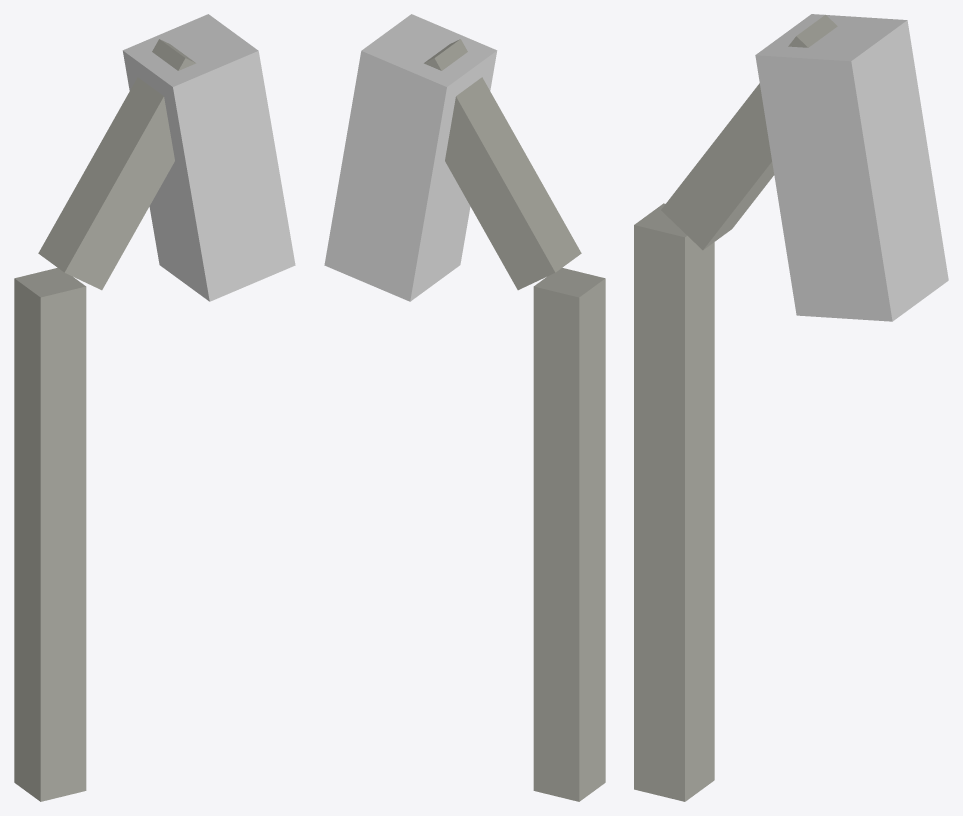
The model's file is SM_MangaViento_v3_Rota_LOD1.fbx.
The picture shows the model from 3 angles, left to right: view 1: azimuth 30°, elevation 25°; view 2: azimuth 150°, elevation 25°; view 3: azimuth 330°, elevation 25°; orthographic projection. The views are drawn at different scales.
Visible parts, largest first — view 1: SM_ambiente_aerodromo_v3_LOD1; view 2: SM_ambiente_aerodromo_v3_LOD1; view 3: SM_ambiente_aerodromo_v3_LOD1.
Part boxes in pixels (x1,y1,x2,y2): SM_ambiente_aerodromo_v3_LOD1: (14,14,295,801); SM_ambiente_aerodromo_v3_LOD1: (324,14,605,801); SM_ambiente_aerodromo_v3_LOD1: (634,14,948,801).
Size of the model in its own units: 1.81 by 5.07 by 0.65.
